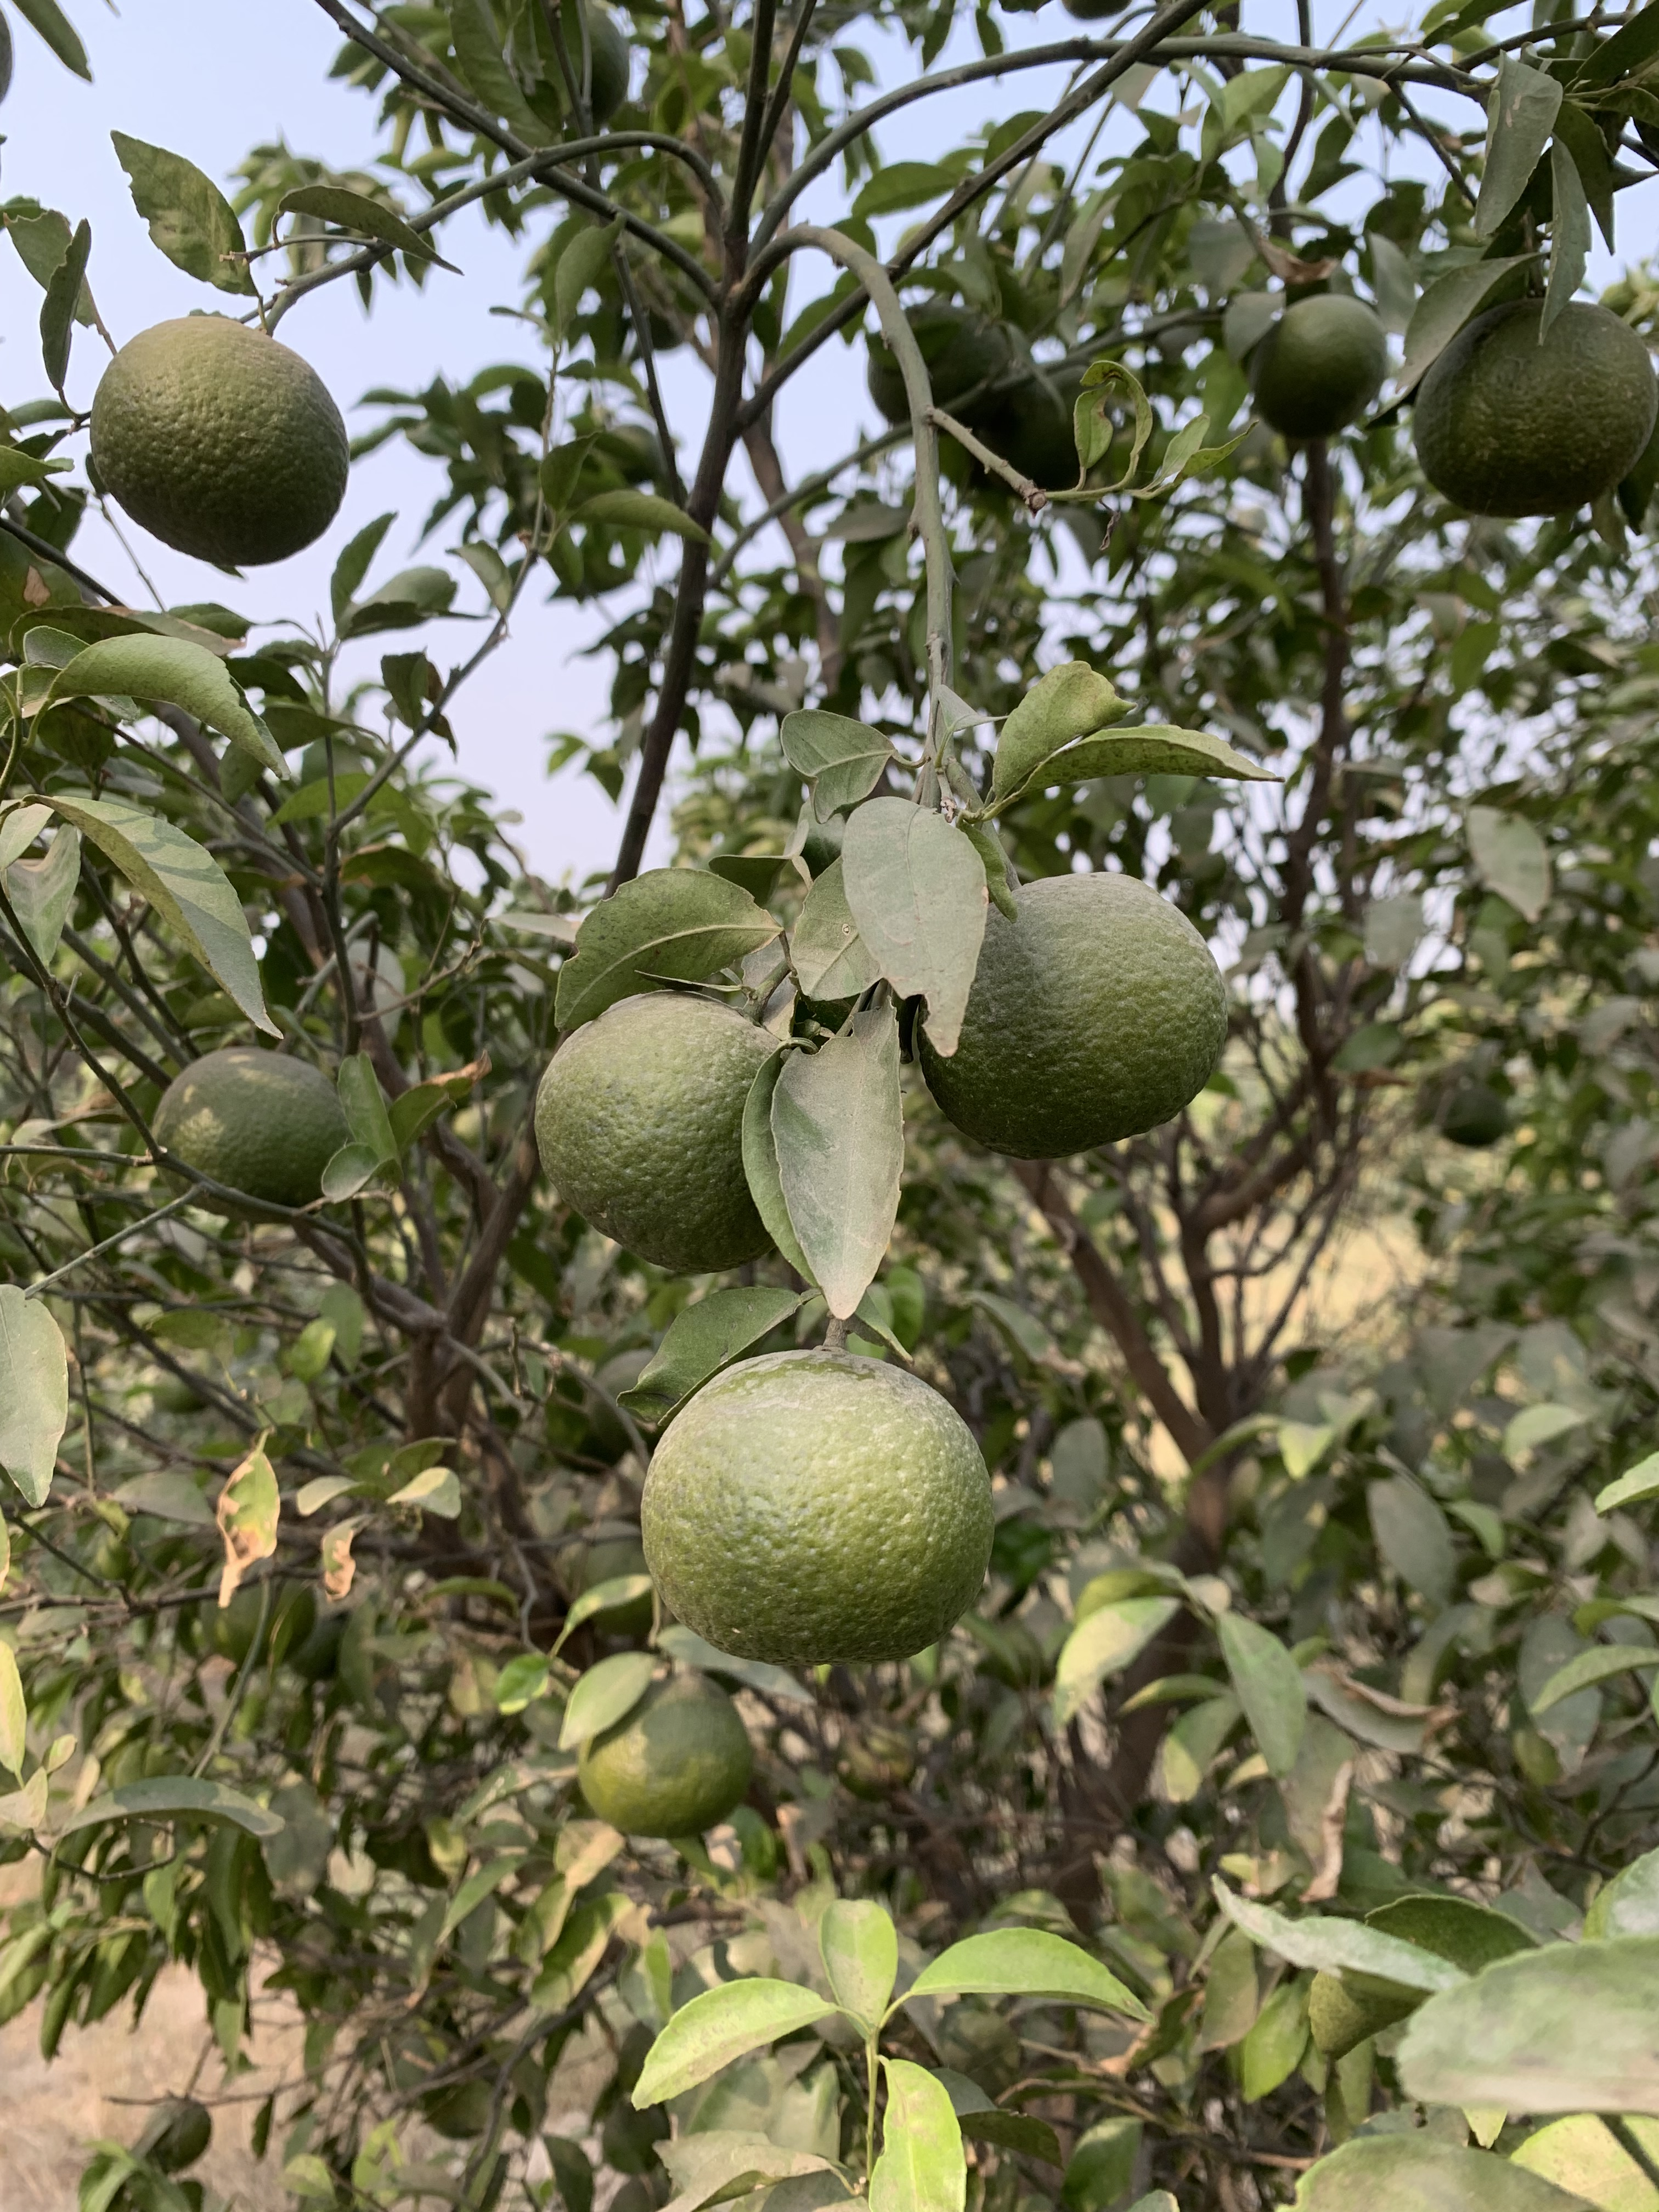orange: (640, 1346, 1002, 1667), (917, 871, 1229, 1163), (537, 989, 788, 1261), (89, 317, 354, 566), (1410, 298, 1657, 516), (150, 1045, 352, 1214), (577, 1660, 756, 1836), (1248, 294, 1389, 439), (969, 355, 1108, 495), (866, 303, 1009, 428), (497, 3, 633, 134), (554, 1521, 667, 1634), (202, 1557, 315, 1667), (943, 2008, 1021, 2099), (601, 2087, 674, 2177), (836, 1716, 915, 1794), (427, 2057, 497, 2142), (145, 2094, 213, 2174), (1436, 1080, 1511, 1150), (289, 1609, 345, 1683), (155, 1360, 211, 1420)
